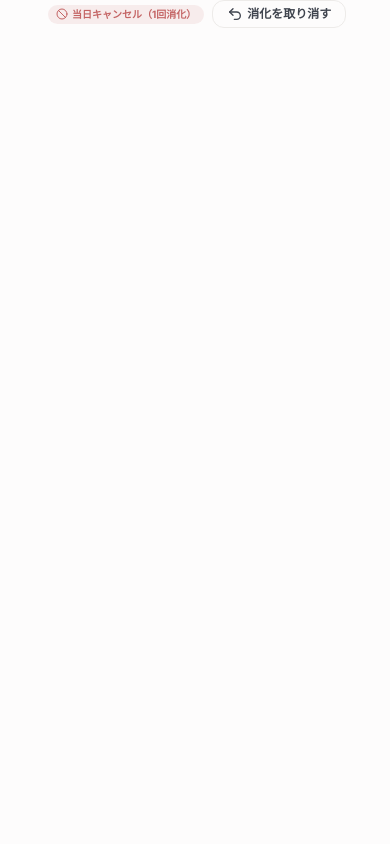
ForfeitedBookingRow（顧客の詳細「予約」タブ） › 確認で日時（JST）を見せ、取り消したら成功を出して一覧を読み直す
Later steps or results of the test are not shown.
Click the button "消化を取り消す". click: (279, 14)
box: 212,0 -> 346,28
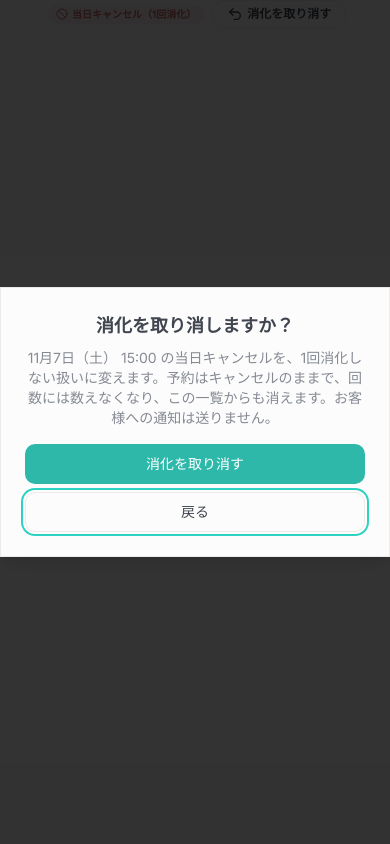
Check: the dialog shows "15:00", box 28,349 -> 362,426
